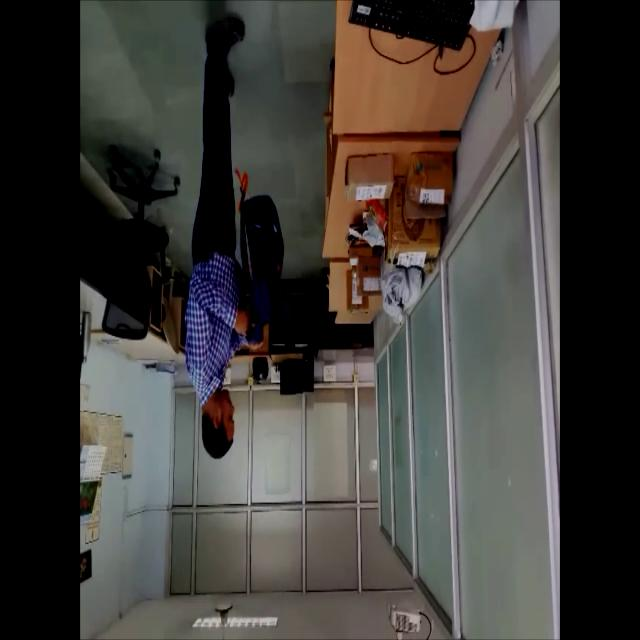shoplifting: (174, 8, 287, 466)
